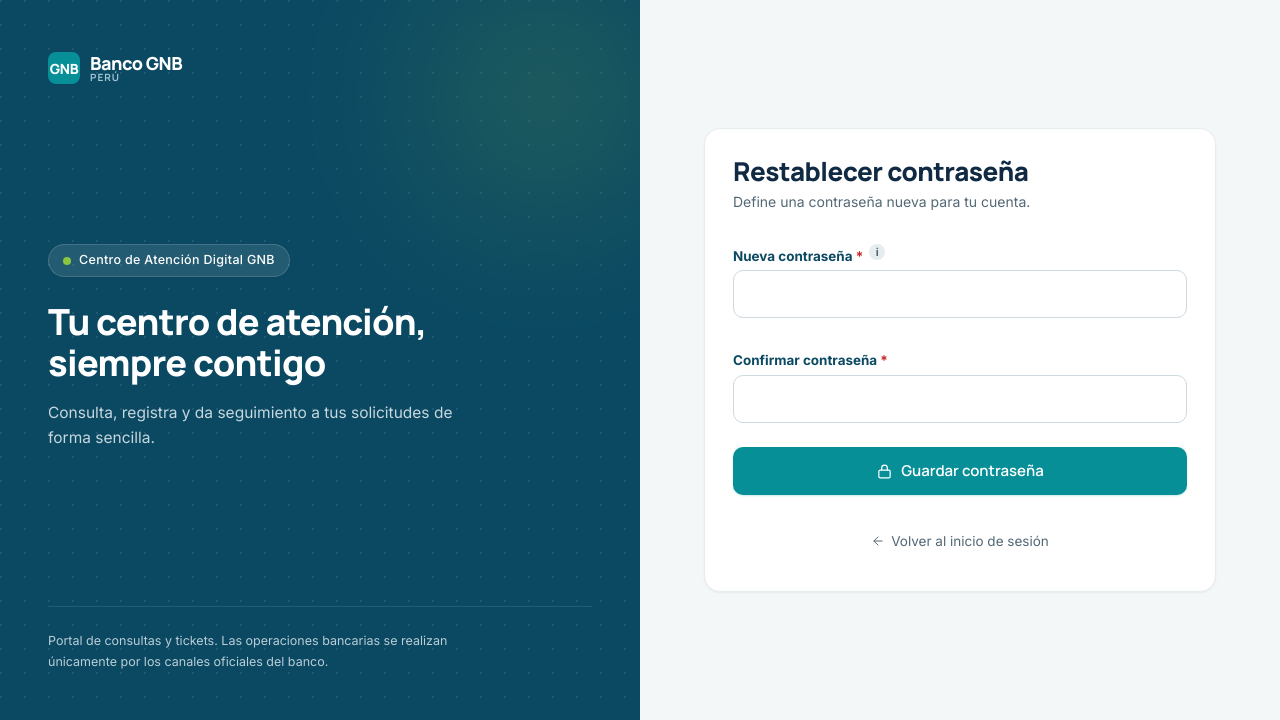
Test: autenticación avanzada › restablece la contraseña usando el token de la URL
The image size is (1280, 720).
Type "NewPassword123" into the password field labelled "Nueva contraseña *" at (960, 294), box [733,270,1187,318]
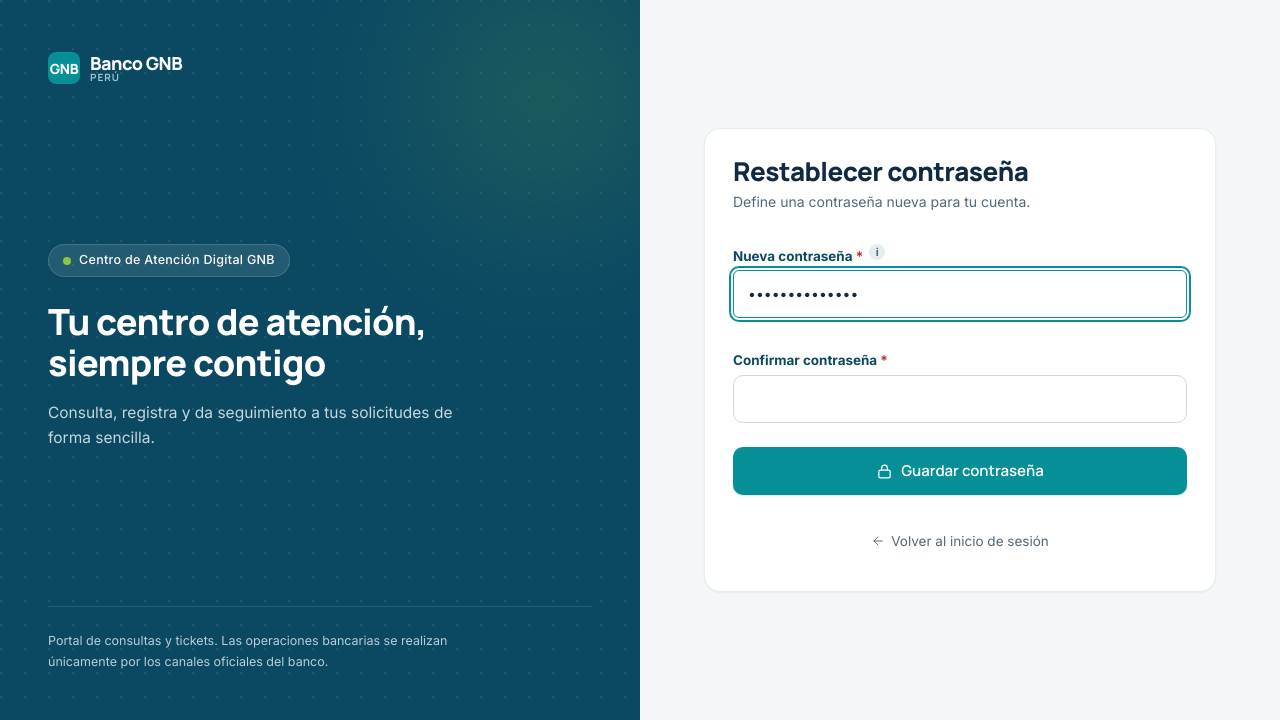
Type "NewPassword123" into the password field labelled "Confirmar contraseña *" at (960, 399), box [733,375,1187,423]
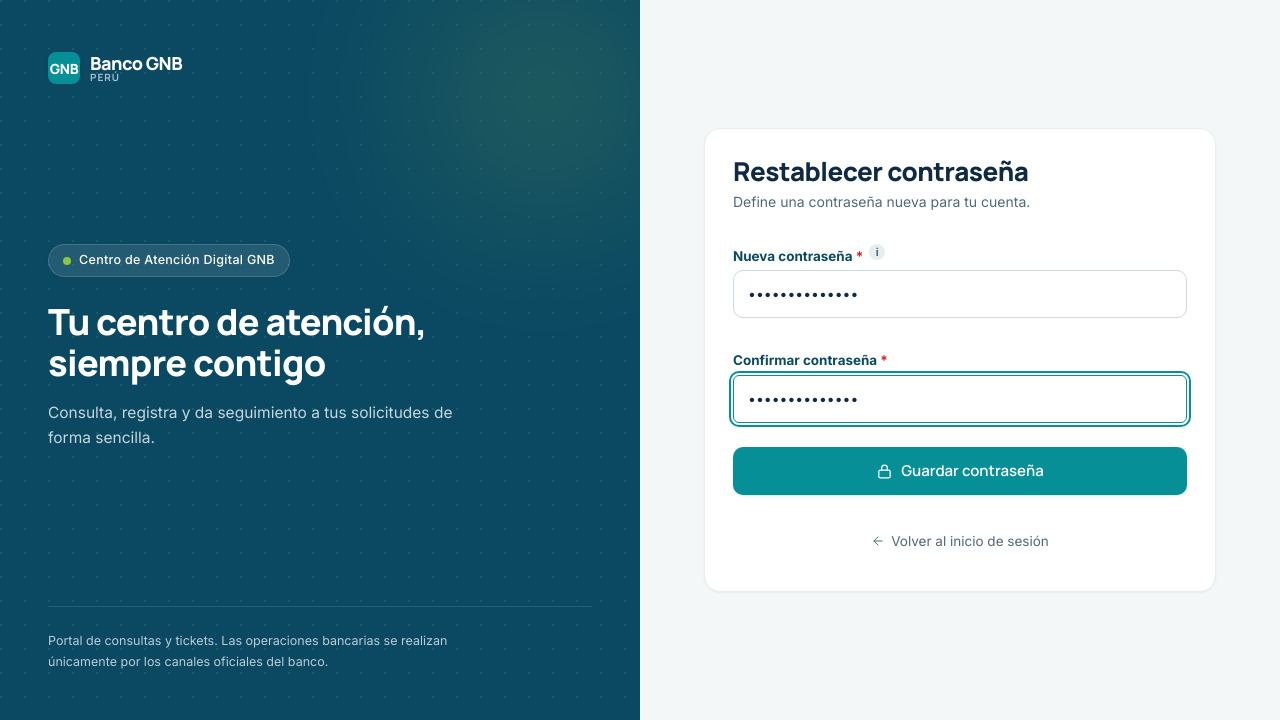
Click the button "Guardar contraseña" at (960, 471), box [733,447,1187,495]
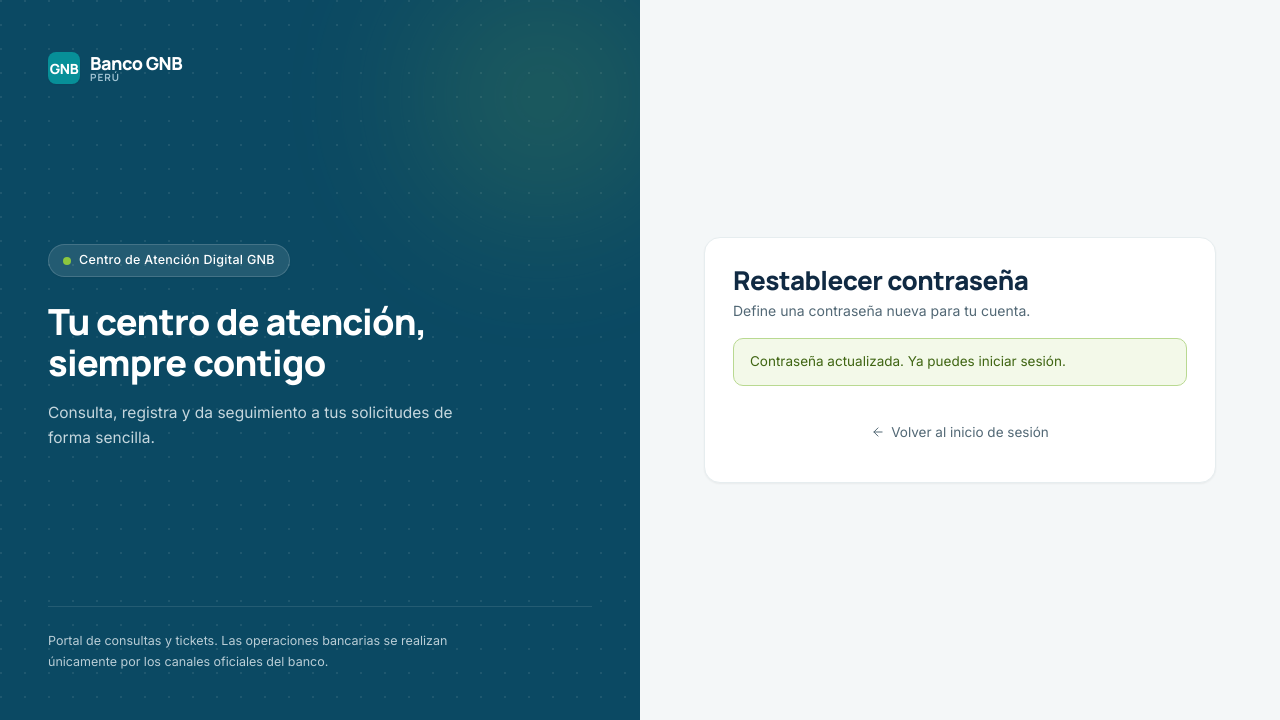
Now the message shows "Contraseña actualizada", box [750,354,1066,370]
